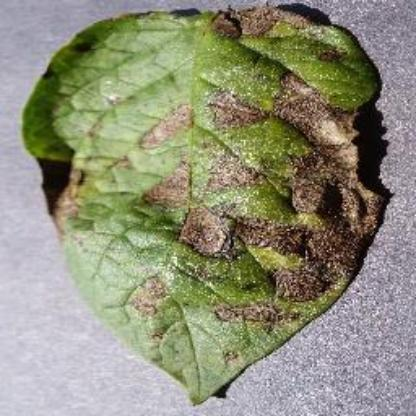Early-Blight: (18, 0, 413, 408)
